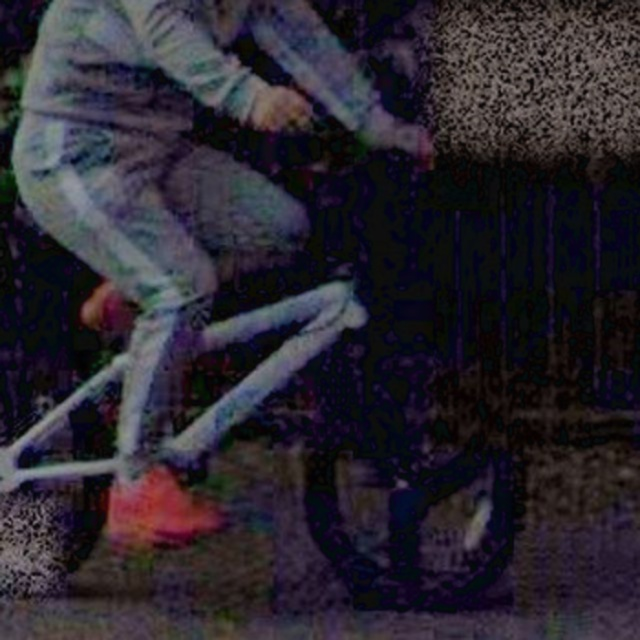bicycle: (9, 23, 559, 601)
